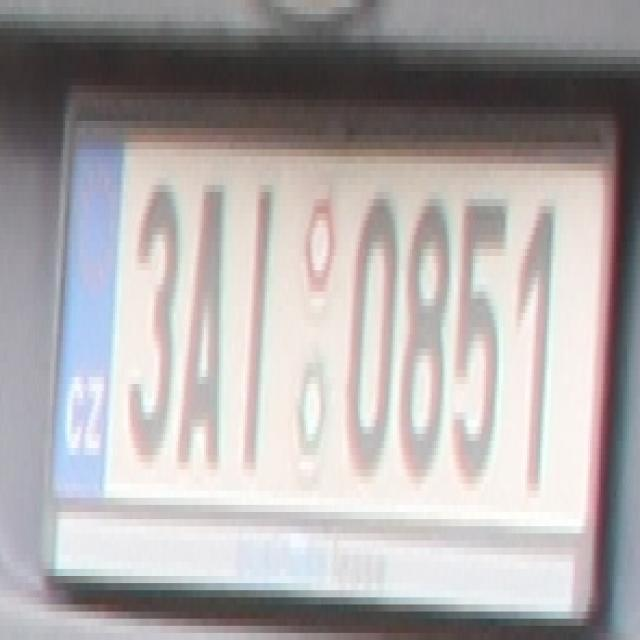0: (343, 184, 397, 483)
1: (512, 192, 553, 512)
3: (124, 156, 176, 462)
5: (452, 199, 506, 512)
8: (401, 185, 449, 491)
A: (176, 164, 221, 476)
